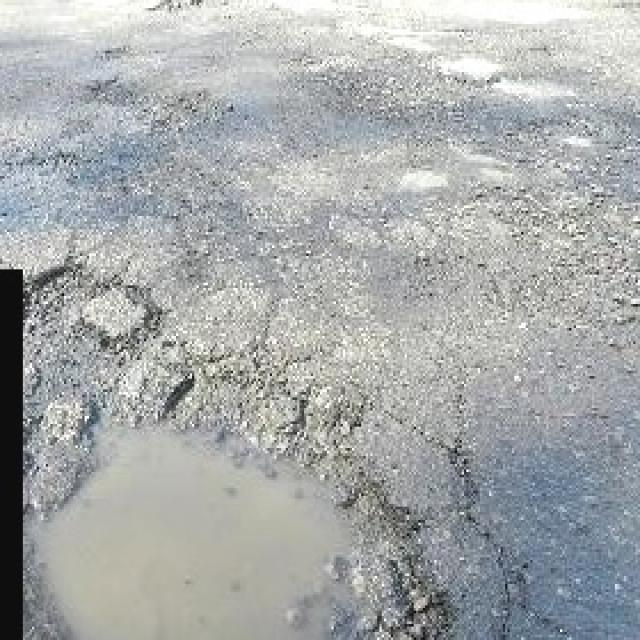road-pothole: (35, 396, 451, 637)
